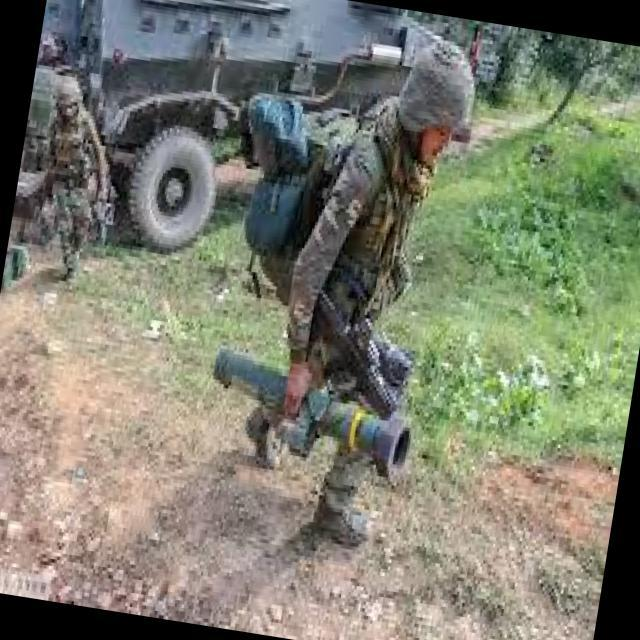rocket: (196, 338, 424, 486)
